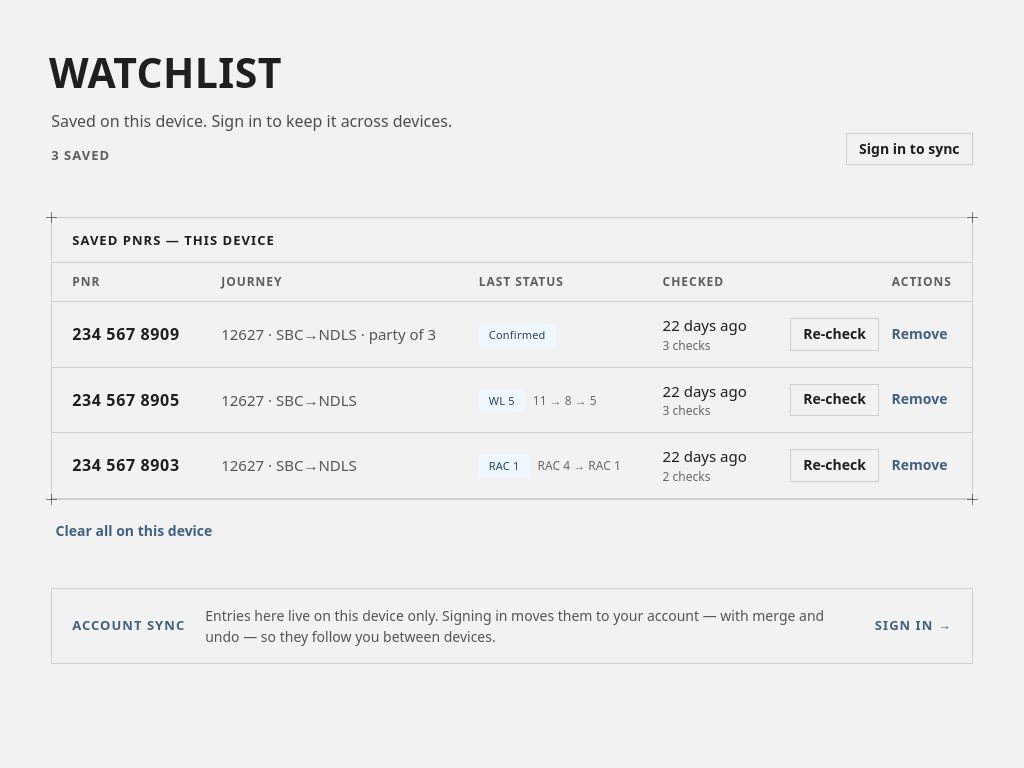
Test: WatchlistView — this device › removes a row and restores it with the single inline undo, history intact
Click the button with test id "watchlist-remove".
click(919, 400)  # box left=887, top=384, right=952, bottom=416
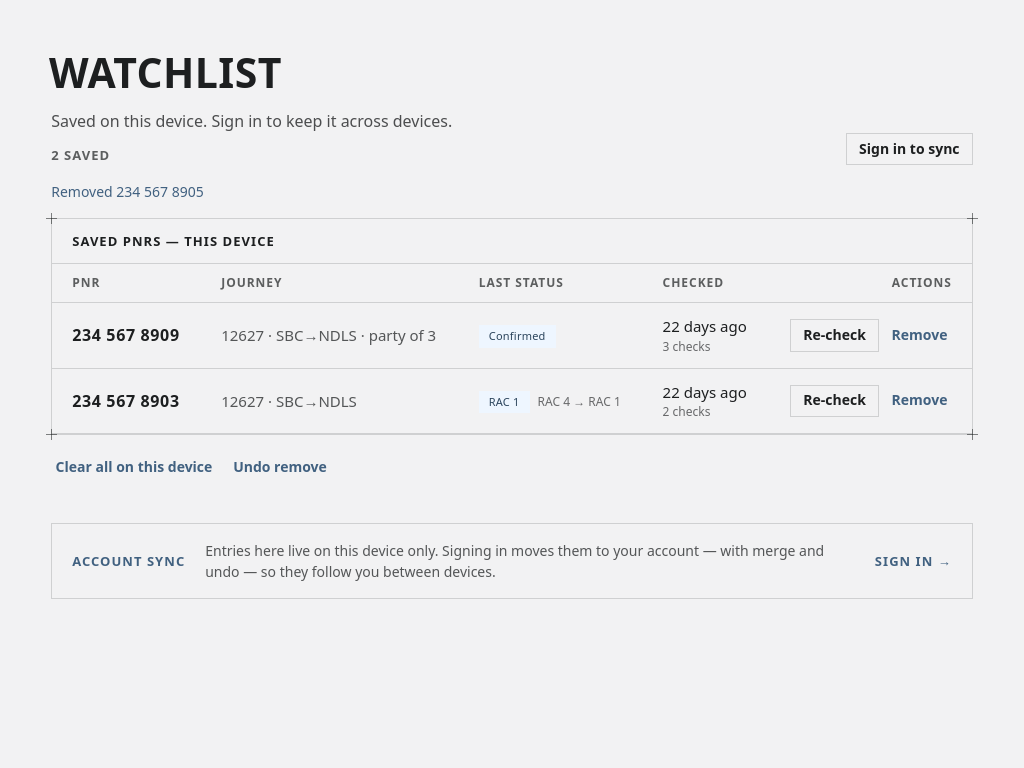
Check: the text "Removed 234 567 8905" is shown, box left=51, top=182, right=204, bottom=201
Check: the number of buttons "Undo remove" is 1
Click the button "Undo remove".
click(280, 467)  # box left=229, top=451, right=331, bottom=484
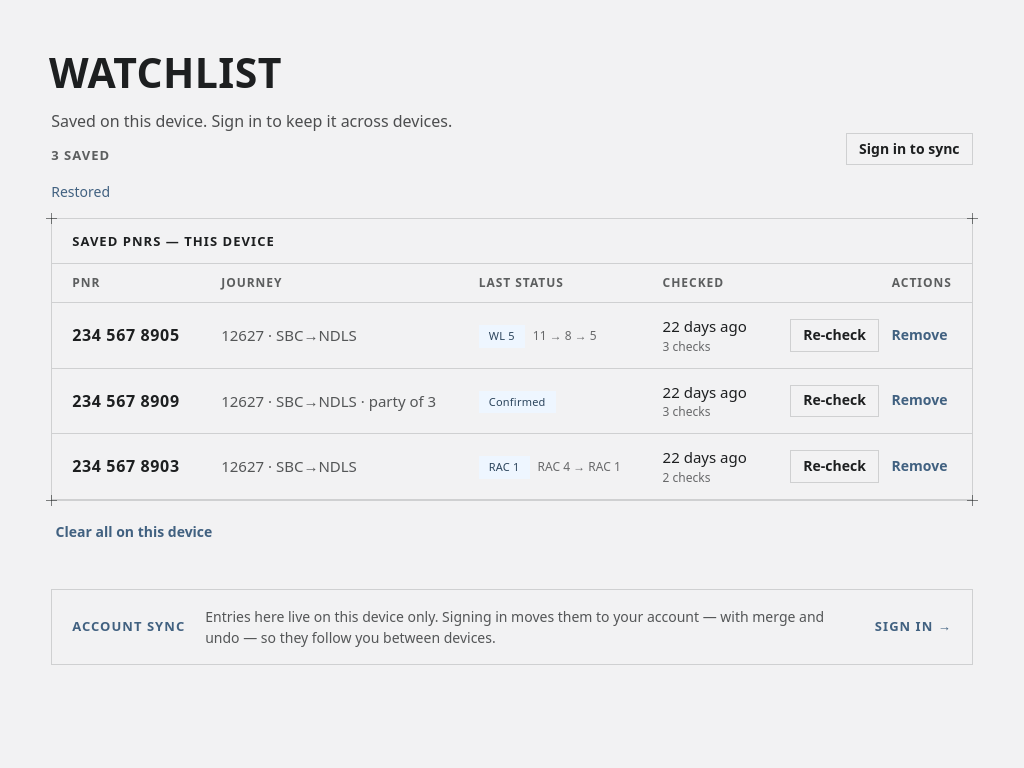
Check: the link "234 567 8905" is shown, box left=72, top=323, right=180, bottom=347
Check: the text "Restored" is shown, box left=51, top=182, right=110, bottom=201
